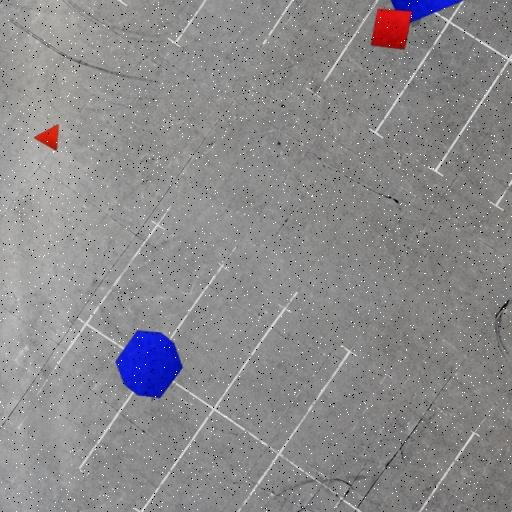RED_SQUARE: (370, 8, 413, 50)
